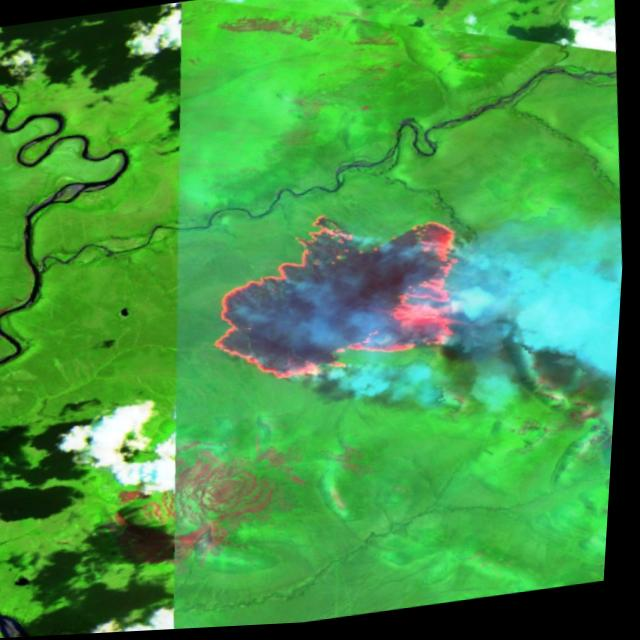fire: (199, 198, 485, 397)
